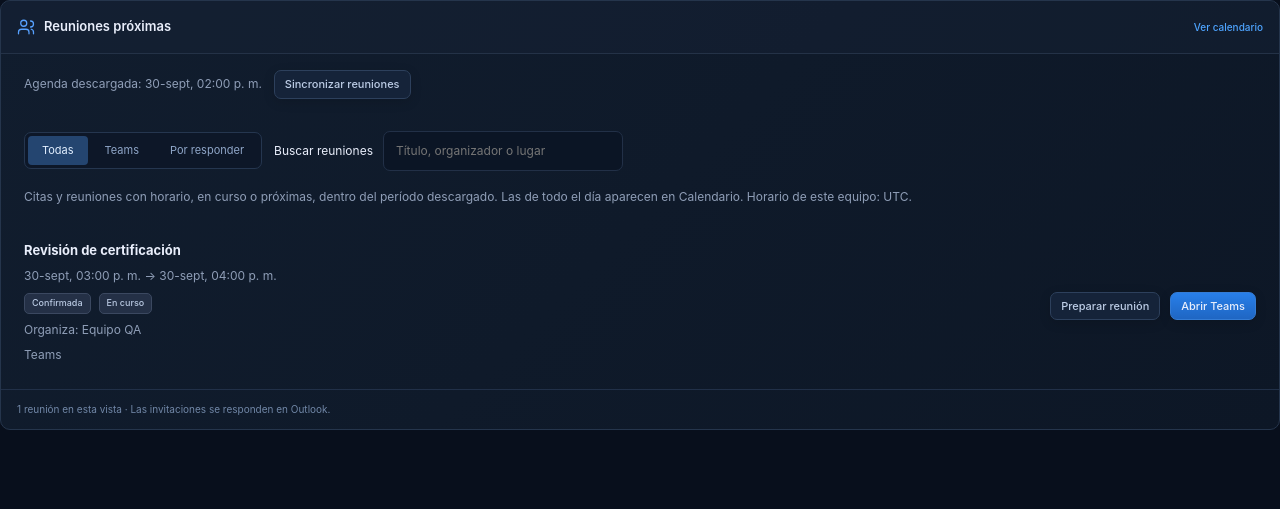
Test case: abre Teams por identificador y conserva la lista si falla la apertura
Click the button "Abrir Teams".
click(1213, 306)  # box [1170,292,1256,320]
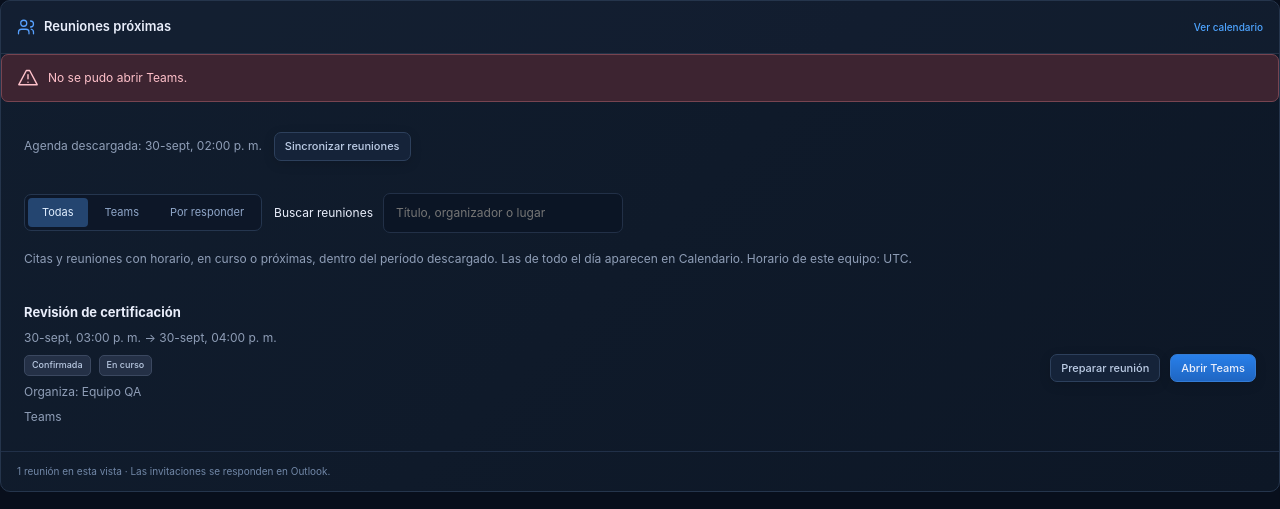
Expected: the text "Revisión de certificación" is shown, [24,304,181,320]
Now the message reads "No se pudo abrir Teams.", box [48,70,187,85]
